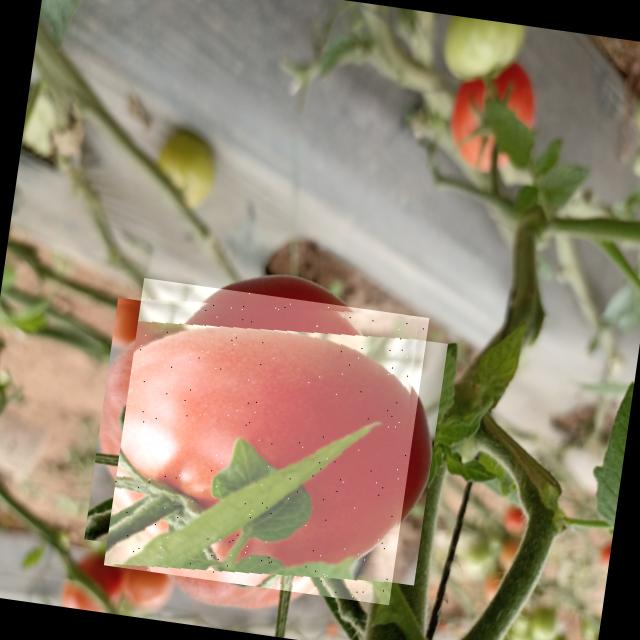Ripe Tomato: (103, 278, 430, 605)
